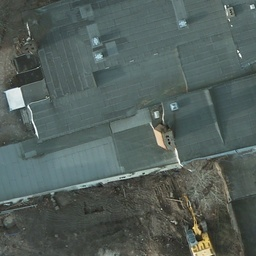car: (0, 17, 14, 51)
